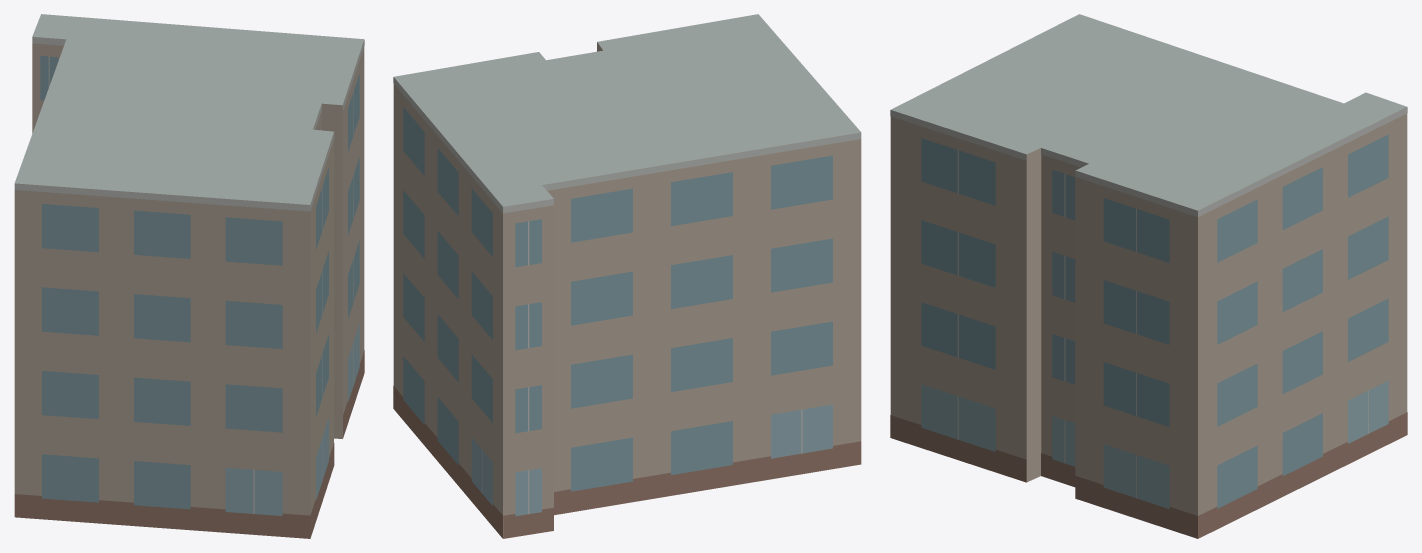
The model's file is survey-upis-32705496.glb.
3 views of the same model, side by side, from view 1: azimuth 30°, elevation 25°; view 2: azimuth 150°, elevation 25°; view 3: azimuth 270°, elevation 25° (orthographic).
Parts seen in each view (by area): view 1: survey-upis-32705496.tmp; view 2: survey-upis-32705496.tmp; view 3: survey-upis-32705496.tmp.
Part boxes in pixels (left/top/right/bottom): survey-upis-32705496.tmp: left=14, top=14, right=364, bottom=538; survey-upis-32705496.tmp: left=393, top=14, right=861, bottom=538; survey-upis-32705496.tmp: left=890, top=14, right=1407, bottom=538.
Bounding box in the file's own units: 16.02 × 12.45 × 17.78.
